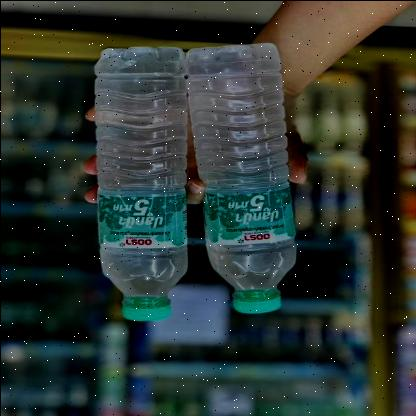Plastic Bottle: (185, 42, 294, 312), (93, 46, 185, 320)
